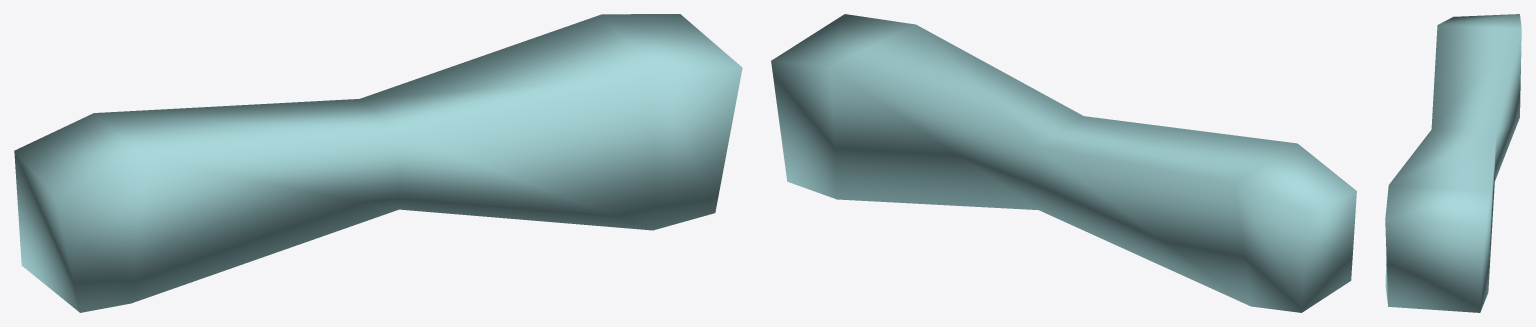
File: Skelly_palm.02.L.fbx
3 renders of one model, left to right at view 1: azimuth 30°, elevation 25°; view 2: azimuth 150°, elevation 25°; view 3: azimuth 270°, elevation 25°, orthographic. The views are drawn at different scales.
Parts seen in each view (by area): view 1: Skelly_palm.02.L; view 2: Skelly_palm.02.L; view 3: Skelly_palm.02.L.
Boxes of the visible parts, bbox=[...] form: Skelly_palm.02.L: bbox=[14, 14, 742, 312]; Skelly_palm.02.L: bbox=[771, 14, 1356, 312]; Skelly_palm.02.L: bbox=[1385, 14, 1521, 312].
Bounding box in the file's own units: 8.89 × 2.06 × 2.4.
